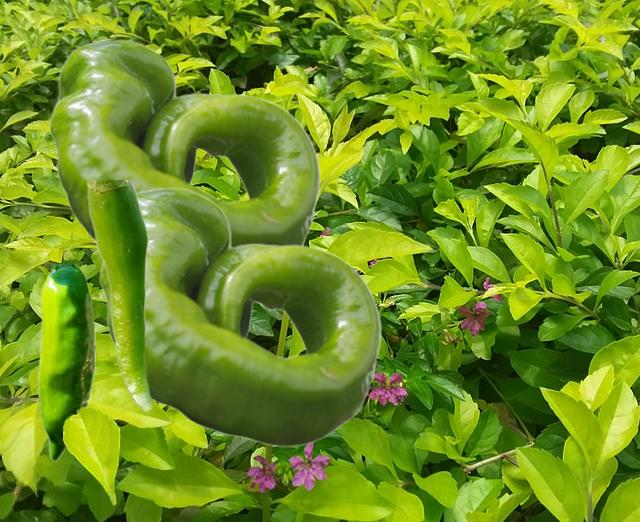green_chili: (99, 187, 380, 446), (49, 39, 319, 245), (87, 180, 151, 412), (37, 264, 94, 460)
